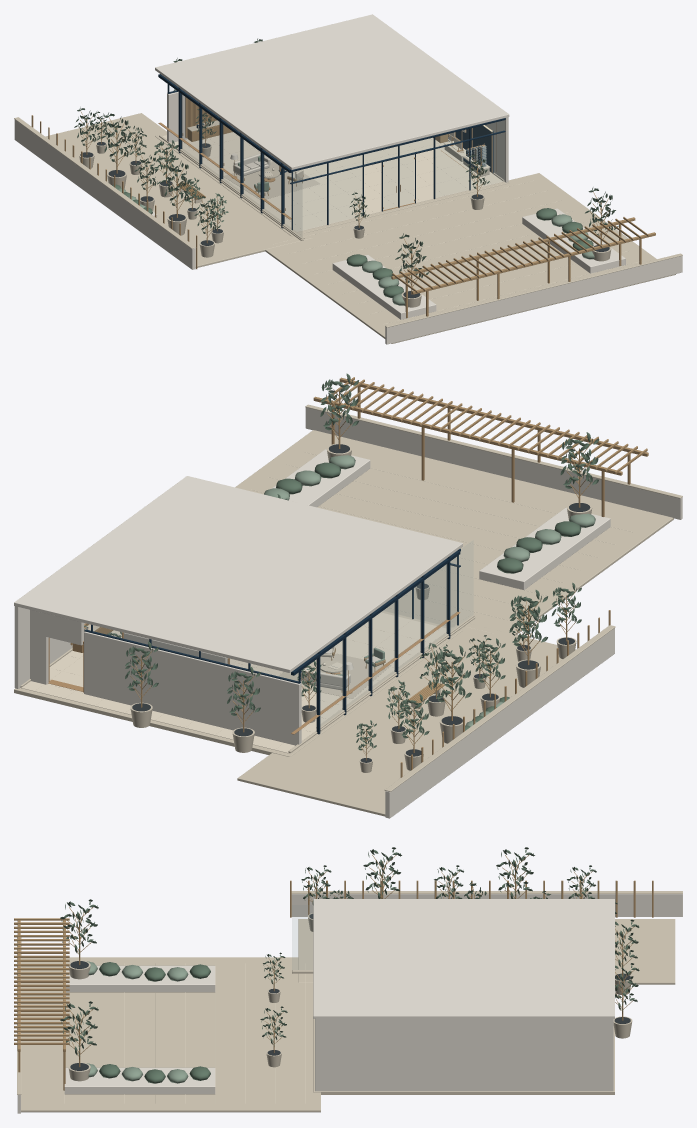
File: lobby.glb
3 views of the same model, one above another, from view 1: azimuth 30°, elevation 25°; view 2: azimuth 150°, elevation 25°; view 3: azimuth 270°, elevation 25° (orthographic). The views are drawn at different scales.
Parts seen in each view (by area): view 1: SHOWROOM · lobby, Wind in the olive crown (×4); view 2: SHOWROOM · lobby, Wind in the olive crown (×9); view 3: SHOWROOM · lobby, Wind in the olive crown (×10).
Part boxes in pixels (box(x1,y1,x2,y2)): SHOWROOM · lobby: box(14, 14, 682, 344); Wind in the olive crown (×4): box(100, 112, 618, 287); SHOWROOM · lobby: box(14, 377, 682, 818); Wind in the olive crown (×9): box(125, 373, 599, 745); SHOWROOM · lobby: box(14, 861, 682, 1113); Wind in the olive crown (×10): box(60, 847, 639, 1059).
Size of the model in its own units: 31 by 6.17 by 44.35.
